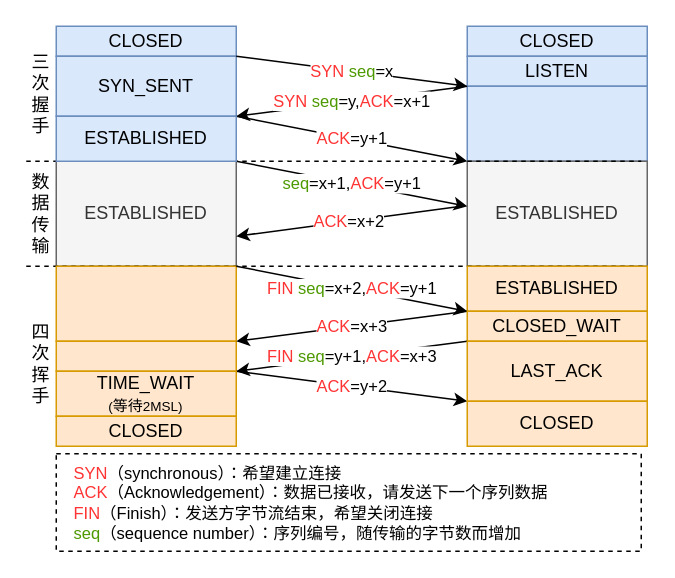
The diagram is 675 pixels wide and 578 high, and some of its shapes have lost their labels. The centre of each missing label's shape, as x and y in pixels:
"FIN_WAIT_1" belongs at point (145, 303).
"FIN_WAIT_2" belongs at point (145, 355).
"SYN_RCVD" belongs at point (556, 123).
